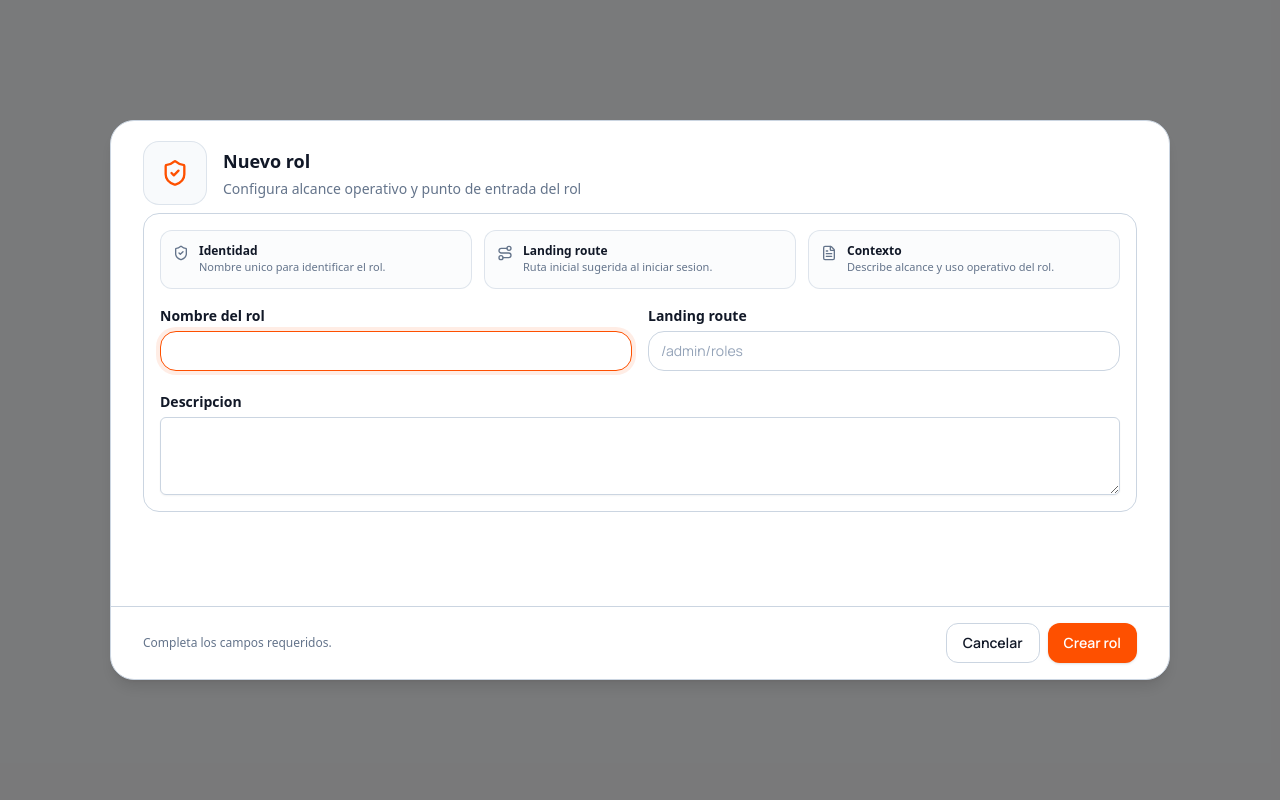
Test: RoleCreateDialog UI › shows validation errors on empty submit
Click the button "Crear rol" at (1092, 643), box x1=1048 y1=623 x2=1137 y2=663
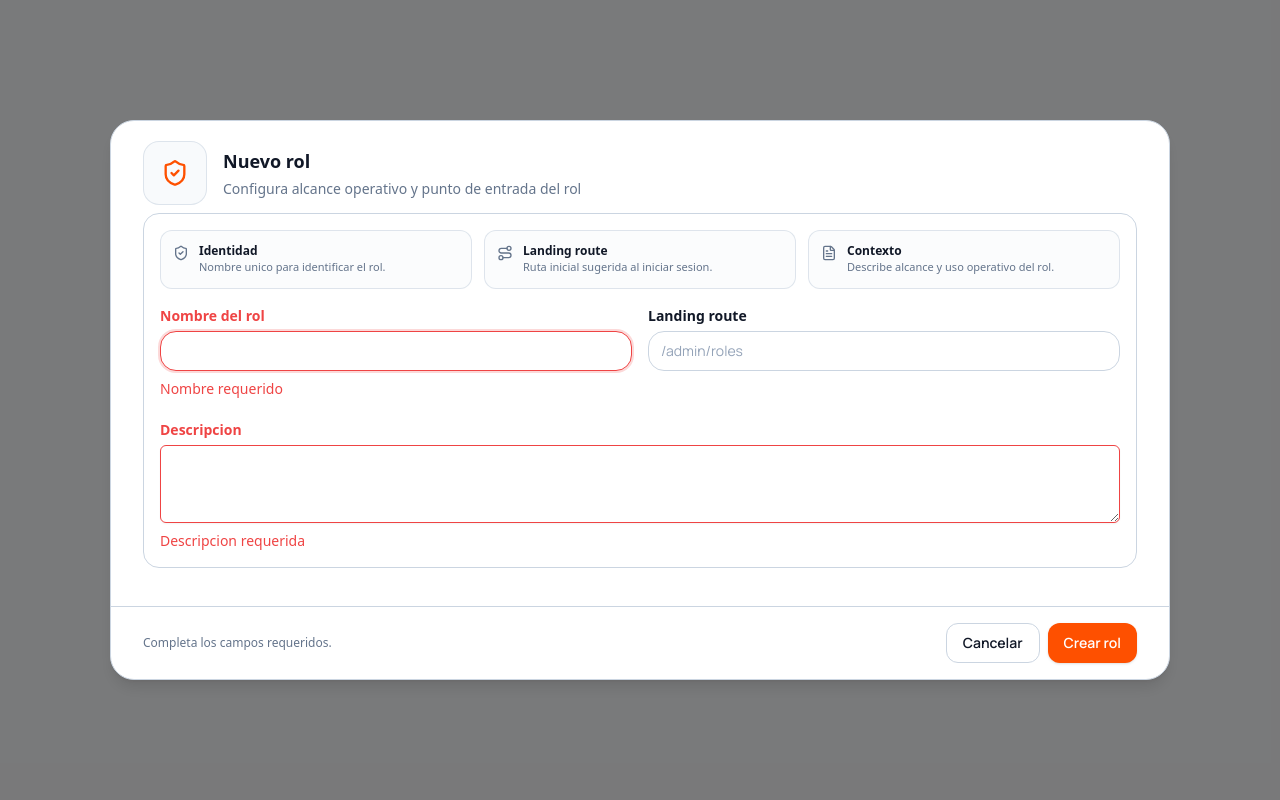
Check: the text "Nombre requerido" is shown, box x1=160 y1=378 x2=283 y2=398
Check: the text "Descripcion requerida" is shown, box x1=160 y1=530 x2=305 y2=550
